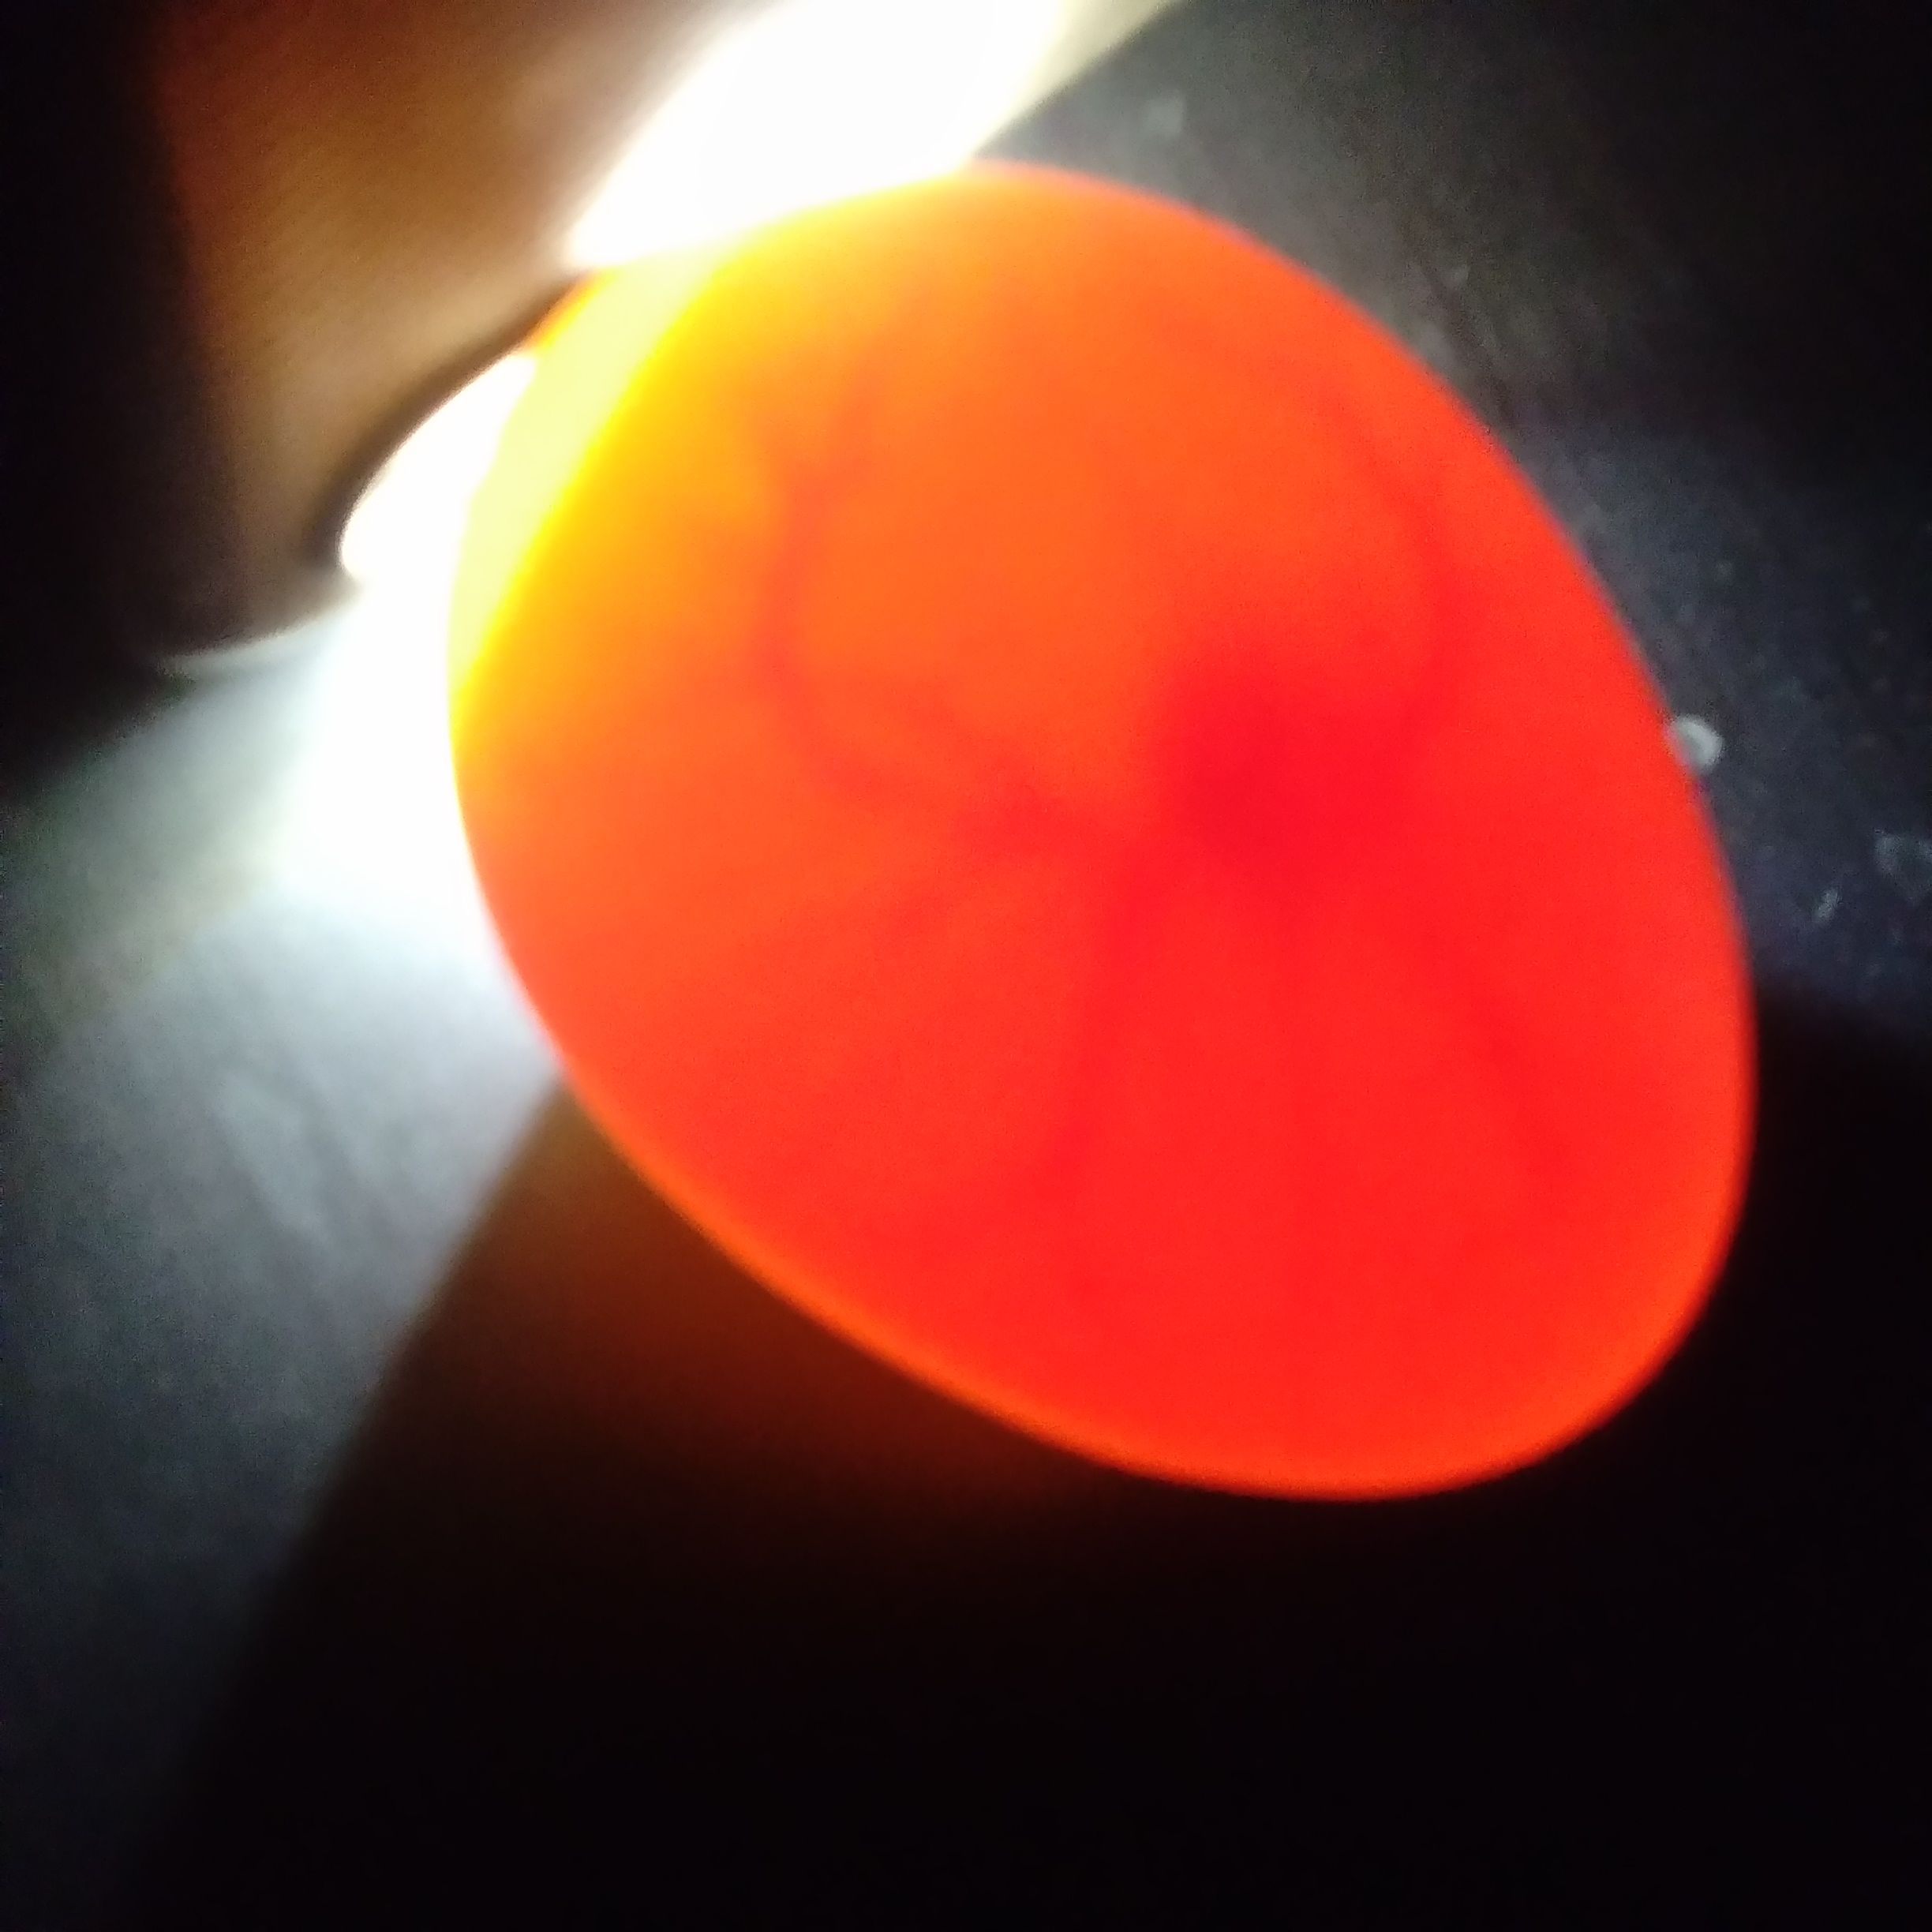bloodcell: (740, 326, 1122, 1192)
embryo: (1159, 633, 1307, 870)
